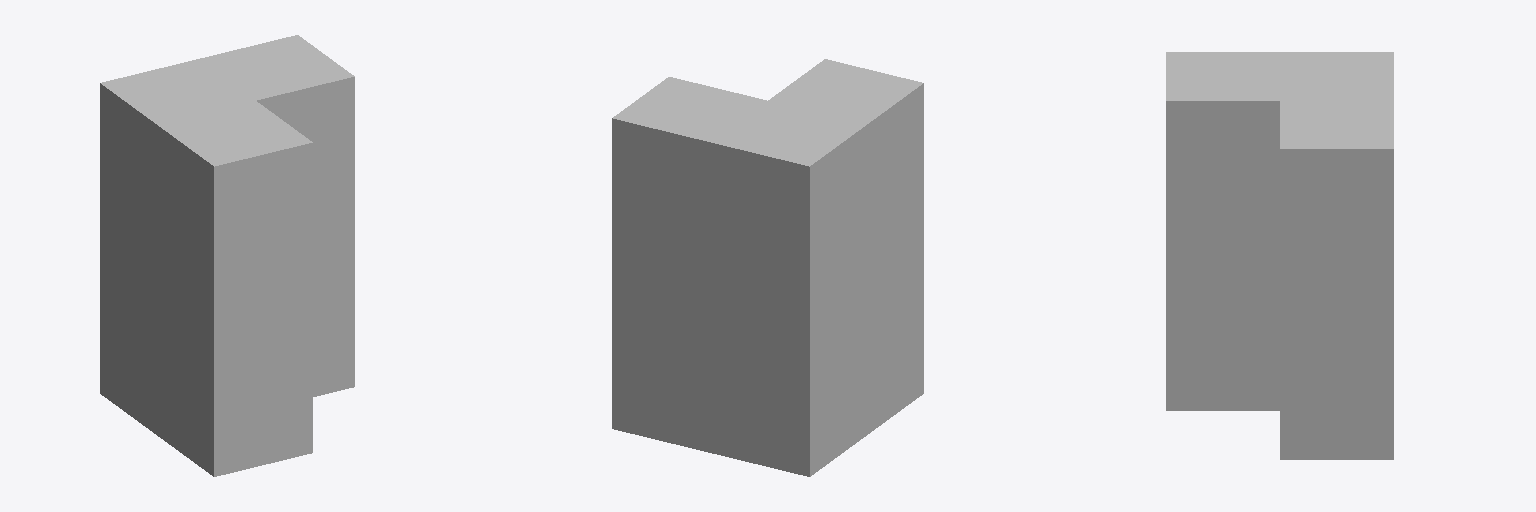
Rendered from glass_pane_corner.obj.
3 views of the same model, side by side, from view 1: azimuth 30°, elevation 25°; view 2: azimuth 150°, elevation 25°; view 3: azimuth 270°, elevation 25° (orthographic).
Parts seen in each view (by area): view 1: Cube; view 2: Cube; view 3: Cube.
Part boxes in pixels (bbox=[...]): Cube: bbox=[100, 35, 354, 476]; Cube: bbox=[612, 59, 923, 476]; Cube: bbox=[1166, 52, 1393, 459].
Size of the model in its own units: 0.6667 by 1 by 0.6667.